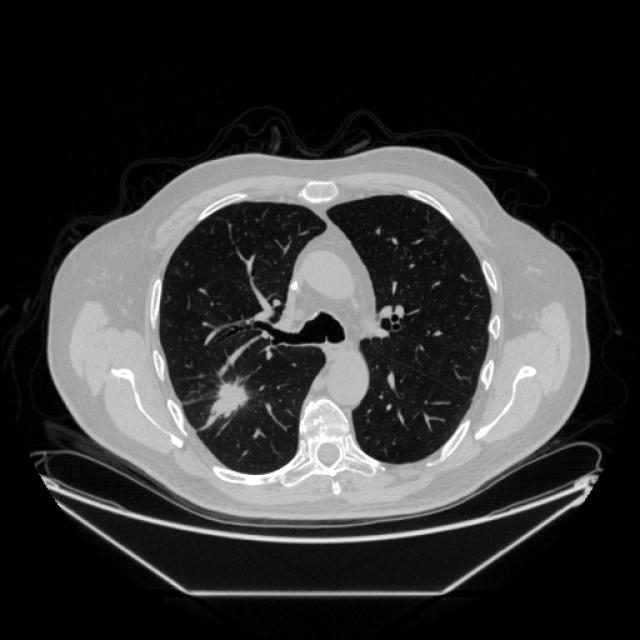nodule: (192, 362, 266, 436)
